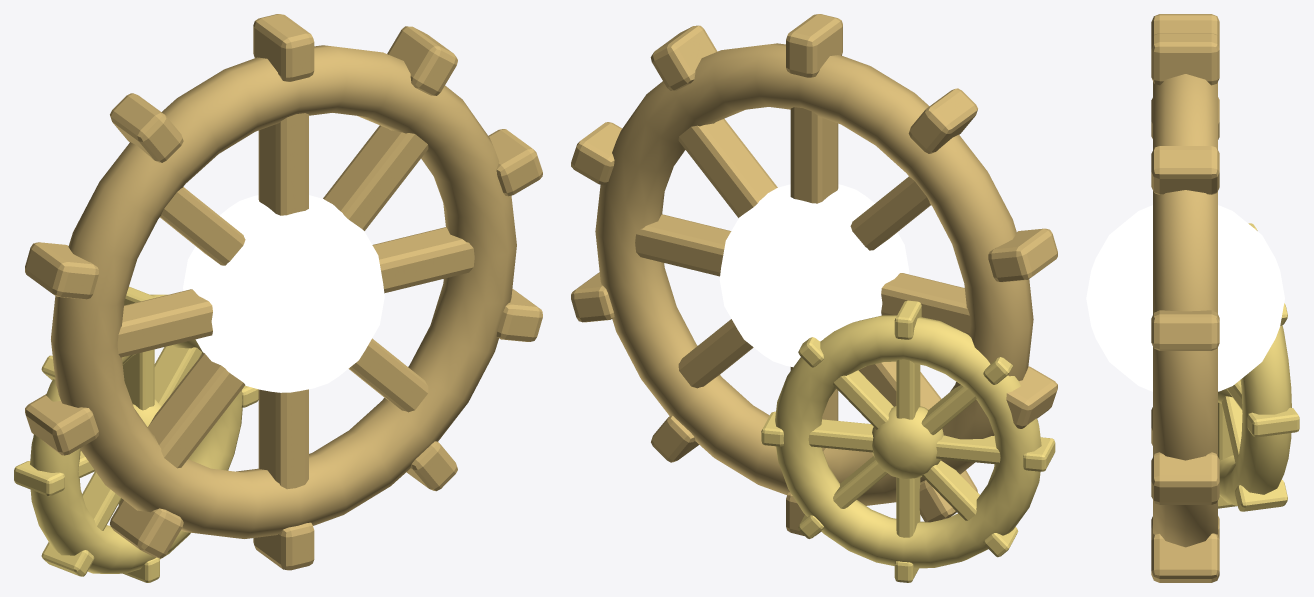
The model's file is SM_Art_GearCore.fbx.
3 views of the same model, side by side, from view 1: azimuth 30°, elevation 25°; view 2: azimuth 150°, elevation 25°; view 3: azimuth 270°, elevation 25° (orthographic). The views are drawn at different scales.
Visible parts, largest first — view 1: Rim, FurnaceCore, Spoke_1, Rim.001, Spoke_0, Spoke_2, Spoke_3, Tooth_5, Tooth_3, Spoke_1.001, Tooth_2, Tooth_4 (+9 smaller); view 2: Rim, Rim.001, FurnaceCore, Spoke_2, Spoke_1, Spoke_3, Spoke_0, Hub.001, Spoke_1.001, Spoke_2.001, Tooth_5, Spoke_0.001 (+11 smaller); view 3: Rim, FurnaceCore, Rim.001, Tooth_8, Tooth_5, Tooth_6, Tooth_9, Tooth_7, Tooth_4, Tooth_6.001, Tooth_7.001, Spoke_3.001 (+1 smaller).
Part boxes in pixels (x1,y1,x2,y2): Rim: [51, 45, 516, 538]; FurnaceCore: [183, 195, 384, 392]; Spoke_1: [147, 125, 428, 468]; Rim.001: [30, 294, 242, 573]; Spoke_0: [258, 113, 308, 489]; Spoke_2: [117, 227, 474, 357]; Spoke_3: [160, 187, 428, 412]; Tooth_5: [253, 14, 314, 81]; Tooth_3: [25, 242, 98, 299]; Spoke_1.001: [82, 345, 202, 530]; Tooth_2: [25, 394, 98, 455]; Tooth_4: [110, 93, 183, 162]; Rim: [595, 43, 1033, 505]; Rim.001: [775, 315, 1041, 568]; FurnaceCore: [719, 184, 909, 367]; Spoke_2: [635, 214, 970, 334]; Spoke_1: [678, 118, 941, 409]; Spoke_3: [678, 176, 930, 388]; Spoke_0: [790, 107, 838, 451]; Hub.001: [872, 406, 943, 479]; Spoke_1.001: [833, 370, 979, 520]; Spoke_2.001: [808, 419, 1000, 464]; Tooth_5: [786, 14, 842, 77]; Spoke_0.001: [896, 359, 920, 537]; Rim: [1153, 74, 1217, 547]; FurnaceCore: [1086, 205, 1284, 391]; Rim.001: [1219, 325, 1291, 505]; Tooth_8: [1151, 452, 1219, 504]; Tooth_5: [1151, 33, 1219, 85]; Tooth_6: [1151, 146, 1219, 194]; Tooth_9: [1151, 533, 1219, 582]; Tooth_7: [1151, 310, 1219, 350]; Tooth_4: [1151, 14, 1219, 40]; Tooth_6.001: [1247, 407, 1299, 437]; Tooth_7.001: [1235, 480, 1287, 511]; Spoke_3.001: [1221, 396, 1242, 464].
Bounding box in the file's own units: 0.183 × 0.1867 × 0.0687.
